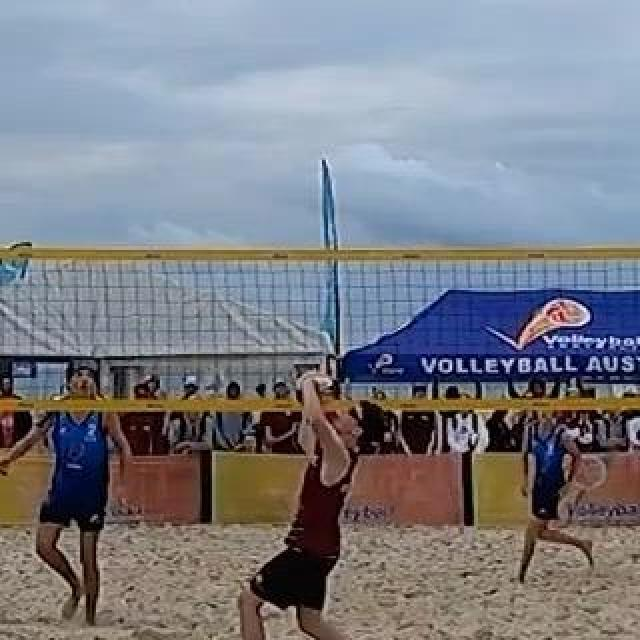volleyball: (296, 370, 334, 408)
